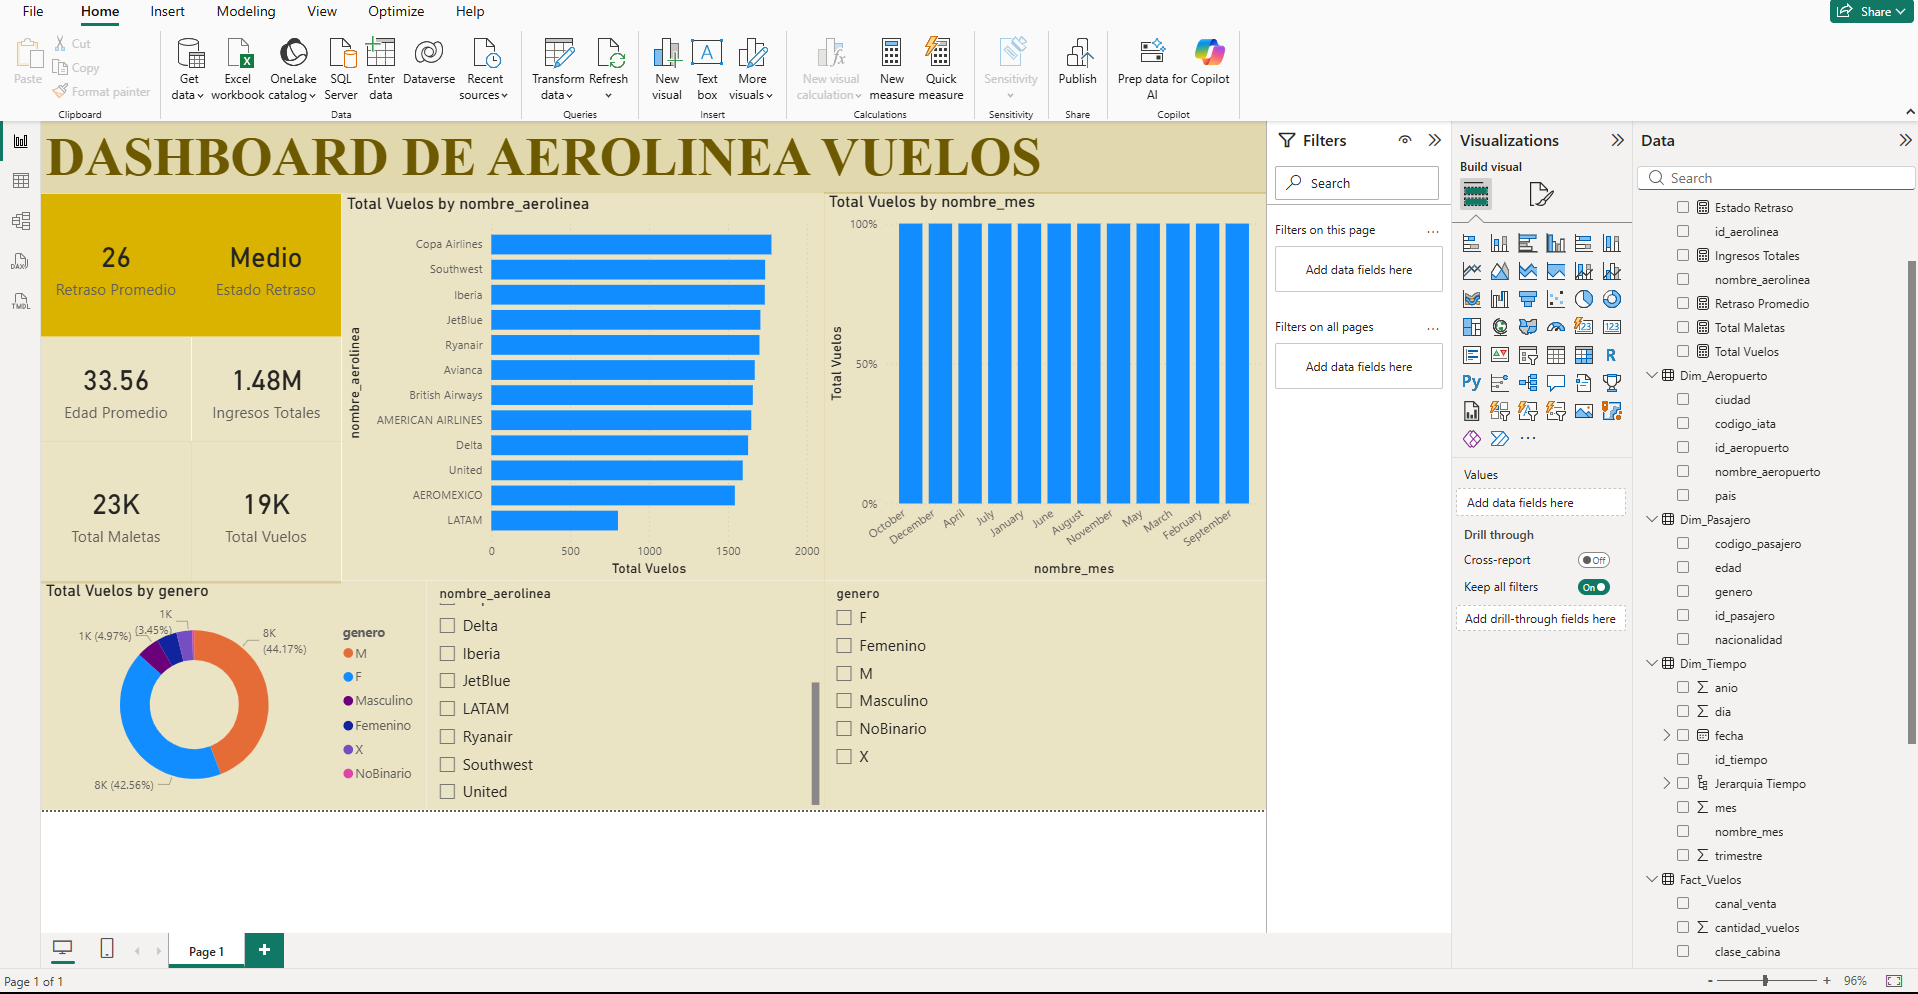

Layout of this report page (visuals, bound fields, positions):
{"tool":"powerbi","page":{"name":"Page 1","canvas":[1280,720],"ordinal":0},"visuals":[{"type":"textbox","box":[0,0,1280,76.3],"z":0},{"type":"card","fields":{"Values":["Dim_Aerolinea.Retraso Promedio"]},"box":[0,76.3,156.7,149.4],"z":1000},{"type":"card","fields":{"Values":["Dim_Aerolinea.Estado Retraso"]},"box":[156.7,76.3,156.7,149.4],"z":1001},{"type":"card","fields":{"Values":["Dim_Aerolinea.Edad Promedio"]},"box":[0,225.7,156.7,108.7],"z":1002},{"type":"card","fields":{"Values":["Dim_Aerolinea.Total Maletas"]},"box":[0,334.4,156.7,149.4],"z":1003},{"type":"card","fields":{"Values":["Dim_Aerolinea.Total Vuelos"]},"box":[156.7,334.4,156.7,149.4],"z":1004},{"type":"card","fields":{"Values":["Dim_Aerolinea.Ingresos Totales"]},"box":[157.8,225.7,155.7,108.7],"z":1005},{"type":"barChart","fields":{"Category":["Dim_Aerolinea.nombre_aerolinea"],"Y":["Dim_Aerolinea.Total Vuelos"]},"box":[314.5,76.3,503.6,404.4],"z":1006},{"type":"donutChart","fields":{"Category":["Dim_Pasajero.genero"],"Y":["Dim_Aerolinea.Total Vuelos"]},"box":[0,480.7,403.3,239.3],"z":1007},{"type":"hundredPercentStackedColumnChart","fields":{"Y":["Dim_Aerolinea.Total Vuelos"],"Category":["Dim_Tiempo.nombre_mes"]},"box":[818.2,74.2,461.8,406.5],"z":1008},{"type":"slicer","fields":{"Values":["Dim_Aerolinea.nombre_aerolinea"]},"box":[403.3,480.7,414.8,239.3],"z":1009},{"type":"slicer","fields":{"Values":["Dim_Pasajero.genero"]},"box":[818.2,480.7,461.8,239.3],"z":1010}]}

Visuals, with their boxes on the page's 1280x720 design canvas (x1, y1, x2, y2). These are canvas units, not pixel positions in the 1918x994 screenshot, which may show the page scaled, cropped or inside an application window:
textbox: pyautogui.locateOnScreen(0, 0, 1280, 76)
card - Dim_Aerolinea.Retraso Promedio: pyautogui.locateOnScreen(0, 76, 157, 226)
card - Dim_Aerolinea.Estado Retraso: pyautogui.locateOnScreen(157, 76, 313, 226)
card - Dim_Aerolinea.Edad Promedio: pyautogui.locateOnScreen(0, 226, 157, 334)
card - Dim_Aerolinea.Total Maletas: pyautogui.locateOnScreen(0, 334, 157, 484)
card - Dim_Aerolinea.Total Vuelos: pyautogui.locateOnScreen(157, 334, 313, 484)
card - Dim_Aerolinea.Ingresos Totales: pyautogui.locateOnScreen(158, 226, 314, 334)
barChart - Dim_Aerolinea.nombre_aerolinea x Dim_Aerolinea.Total Vuelos: pyautogui.locateOnScreen(314, 76, 818, 481)
donutChart - Dim_Pasajero.genero x Dim_Aerolinea.Total Vuelos: pyautogui.locateOnScreen(0, 481, 403, 720)
hundredPercentStackedColumnChart - Dim_Aerolinea.Total Vuelos x Dim_Tiempo.nombre_mes: pyautogui.locateOnScreen(818, 74, 1280, 481)
slicer - Dim_Aerolinea.nombre_aerolinea: pyautogui.locateOnScreen(403, 481, 818, 720)
slicer - Dim_Pasajero.genero: pyautogui.locateOnScreen(818, 481, 1280, 720)
